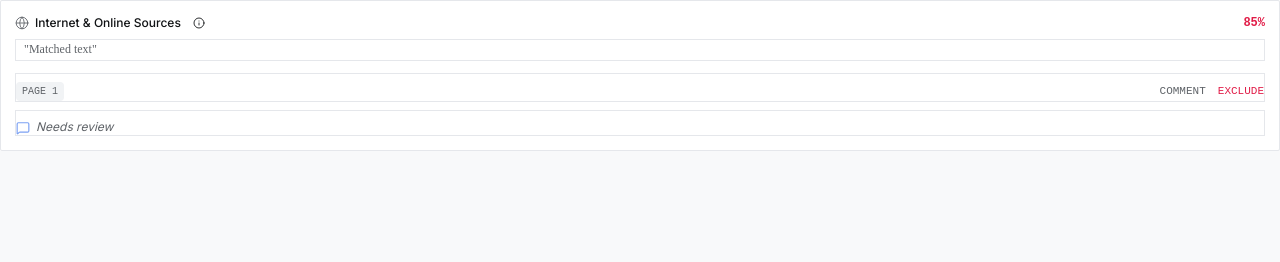
Scenario: MatchCard Component › handles inline comment interaction and display
The width and height of the screenshot is (1280, 262).
Later steps or results of the test are not shown.
Check: the text "Needs review" is shown, box top-left (36, 118), bottom-right (113, 134)
Test opening the editor
Click the button "COMMENT".
click(1183, 91)  # box top-left (1160, 83), bottom-right (1206, 99)
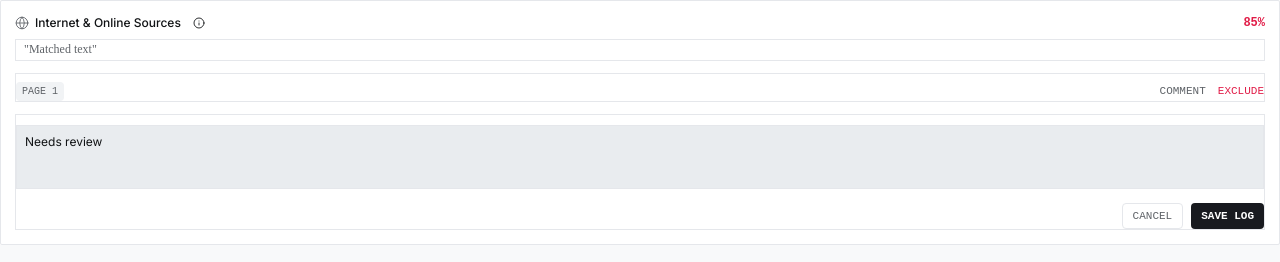
Check: the text box with placeholder "ENTER TRIAGE LOG..." is shown, box top-left (16, 124), bottom-right (1264, 188)
